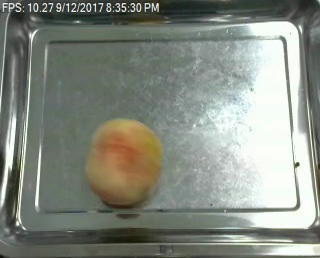Peach: (86, 117, 162, 206)
